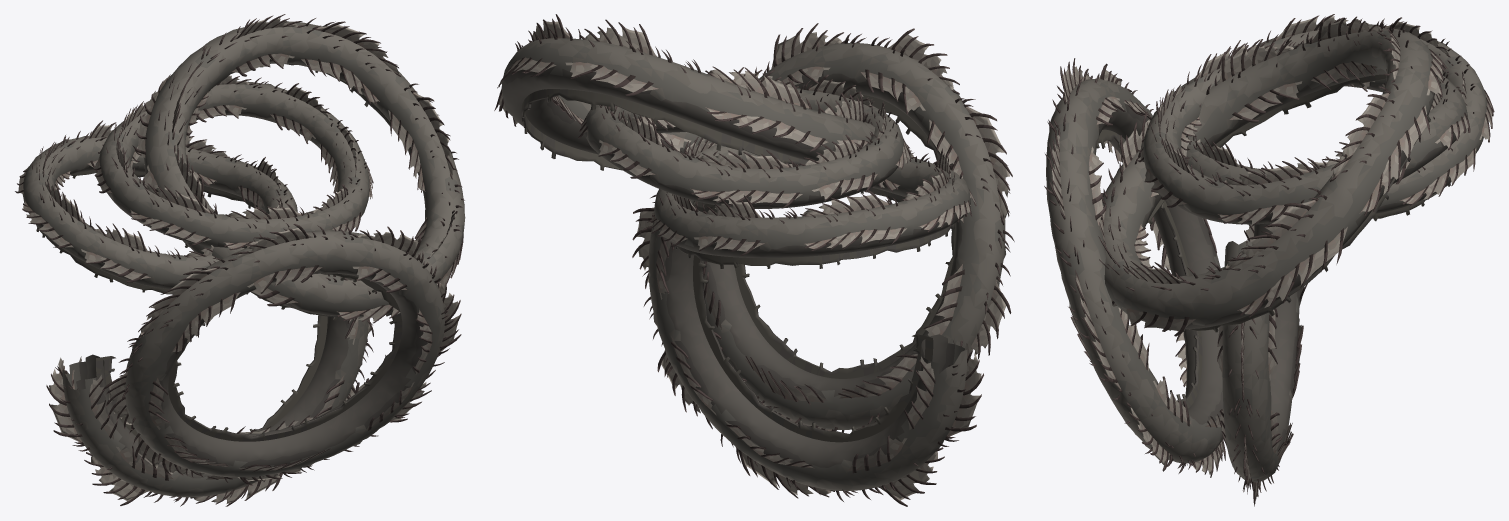
File: R_Act_Fix_I.fbx
3 views of the same model, side by side, from view 1: azimuth 30°, elevation 25°; view 2: azimuth 150°, elevation 25°; view 3: azimuth 270°, elevation 25° (orthographic). The views are drawn at different scales.
Visible parts, largest first — view 1: LeviathanRing2, LevRing1, levring3, LeviathanRing, levring2; view 2: LeviathanRing2, LeviathanRing, LevRing1, levring2, levring3; view 3: LevRing1, LeviathanRing2, levring3, LeviathanRing, levring2.
Boxes of the visible parts, x1,y1,x2,y2 form: LeviathanRing2: [102, 224, 461, 485]; LevRing1: [132, 14, 465, 323]; levring3: [93, 75, 373, 250]; LeviathanRing: [46, 315, 378, 506]; levring2: [15, 120, 297, 294]; LeviathanRing2: [701, 23, 1014, 432]; LeviathanRing: [632, 194, 983, 506]; LevRing1: [494, 14, 875, 193]; levring2: [650, 136, 976, 268]; levring3: [578, 67, 911, 208]; LevRing1: [1098, 16, 1447, 336]; LeviathanRing2: [1044, 58, 1225, 477]; levring3: [1137, 36, 1470, 226]; LeviathanRing: [1217, 223, 1307, 506]; levring2: [1184, 14, 1494, 218].
Size of the model in its own units: 13304 by 13443 by 10796.
